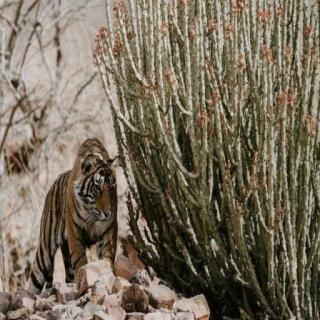Tiger: (29, 132, 123, 302)
